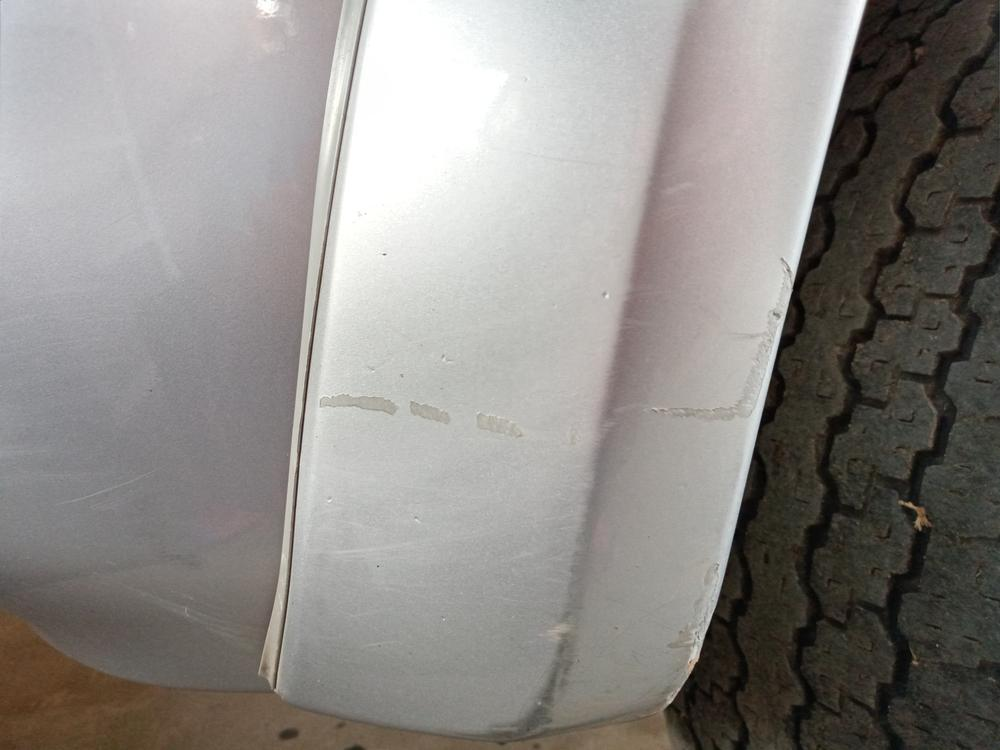scratch: (619, 260, 797, 428), (325, 387, 547, 449)
